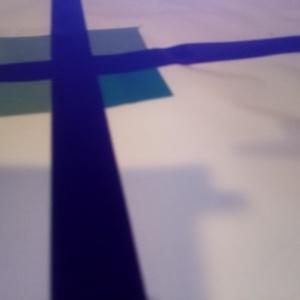bottom_left: (1, 65, 96, 116)
bottom_right: (51, 56, 172, 107)
top_left: (1, 36, 86, 80)
top_right: (50, 28, 147, 70)
